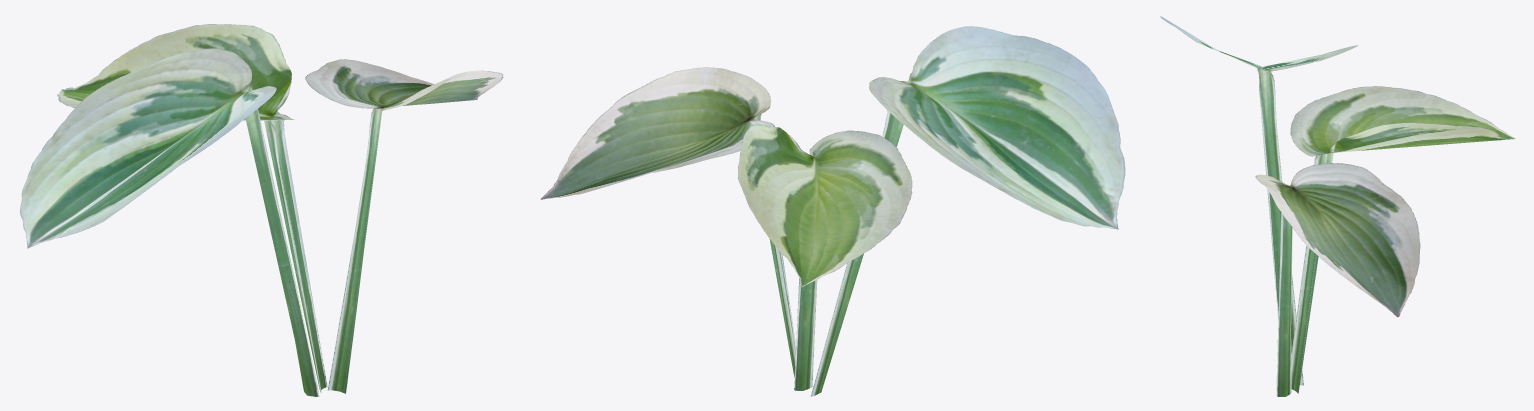
File: plant_small_wg_00_fillerC.fbx
3 views of the same model, side by side, from view 1: azimuth 30°, elevation 25°; view 2: azimuth 150°, elevation 25°; view 3: azimuth 270°, elevation 25° (orthographic). The views are drawn at different scales.
Visible parts, largest first — view 1: plant_small_wg_00_fillerC; view 2: plant_small_wg_00_fillerC; view 3: plant_small_wg_00_fillerC.
Part boxes in pixels (<box>): plant_small_wg_00_fillerC: <box>20,24,503,396</box>; plant_small_wg_00_fillerC: <box>540,26,1125,396</box>; plant_small_wg_00_fillerC: <box>1160,16,1515,396</box>.
Bounding box in the file's own units: 42.01 × 28.13 × 29.35.
Materials: 1 (1 with a texture image).
